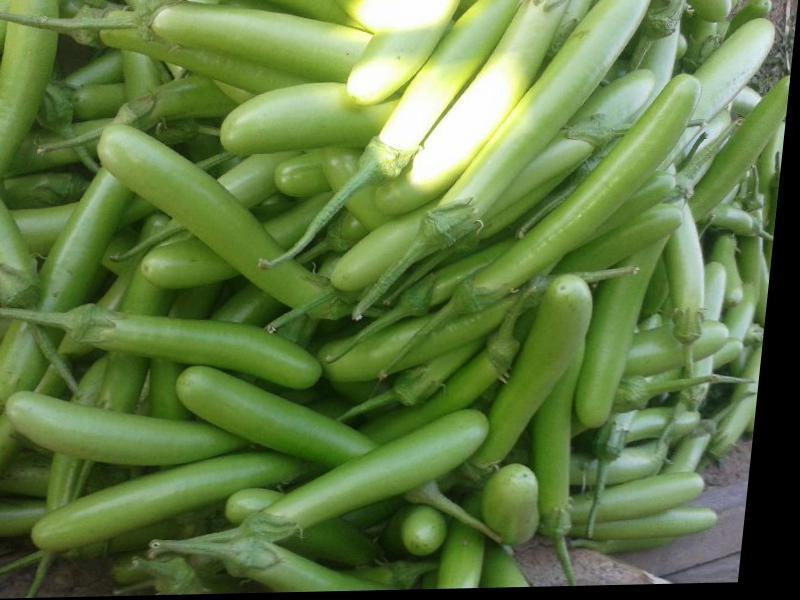eggplant: (0, 50, 746, 540)
